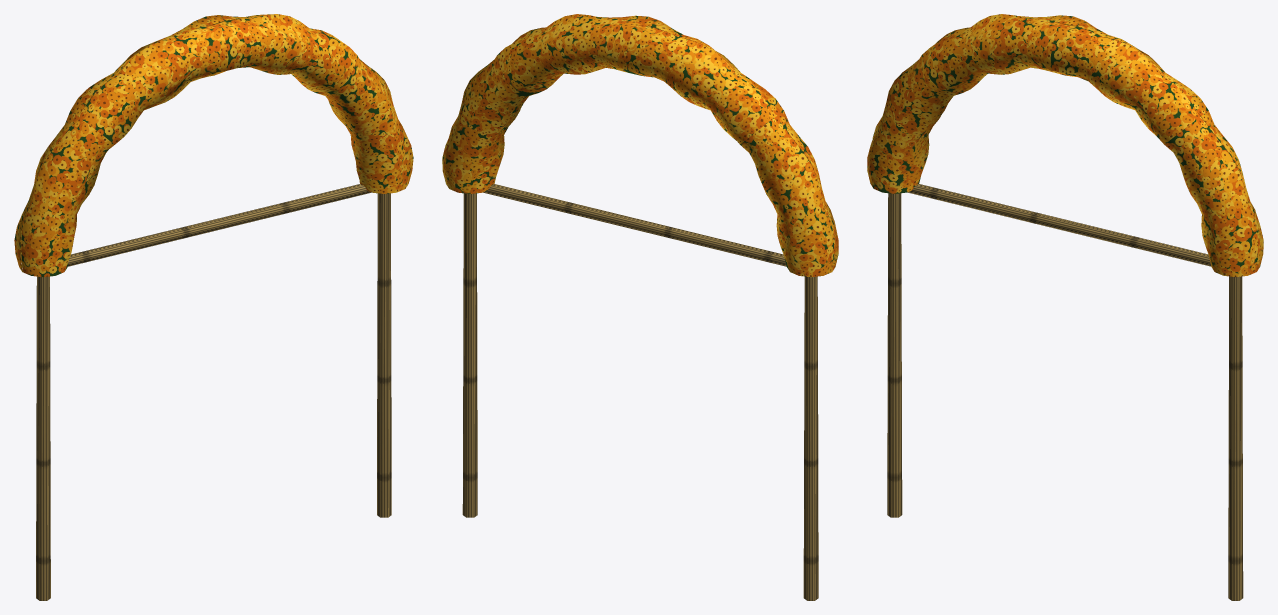
File: arco_cempasuchil.obj
3 renders of one model, left to right at view 1: azimuth 30°, elevation 25°; view 2: azimuth 150°, elevation 25°; view 3: azimuth 330°, elevation 25°, orthographic.
Visible parts, largest first — view 1: arco_cempasuchil; view 2: arco_cempasuchil; view 3: arco_cempasuchil.
Boxes of the visible parts, left/top/right/bottom form: arco_cempasuchil: left=14, top=14, right=413, bottom=600; arco_cempasuchil: left=442, top=14, right=838, bottom=600; arco_cempasuchil: left=867, top=14, right=1263, bottom=600.
Bounding box in the file's own units: 2.38 × 3.15 × 0.3364.
2 materials, 2 textured.
